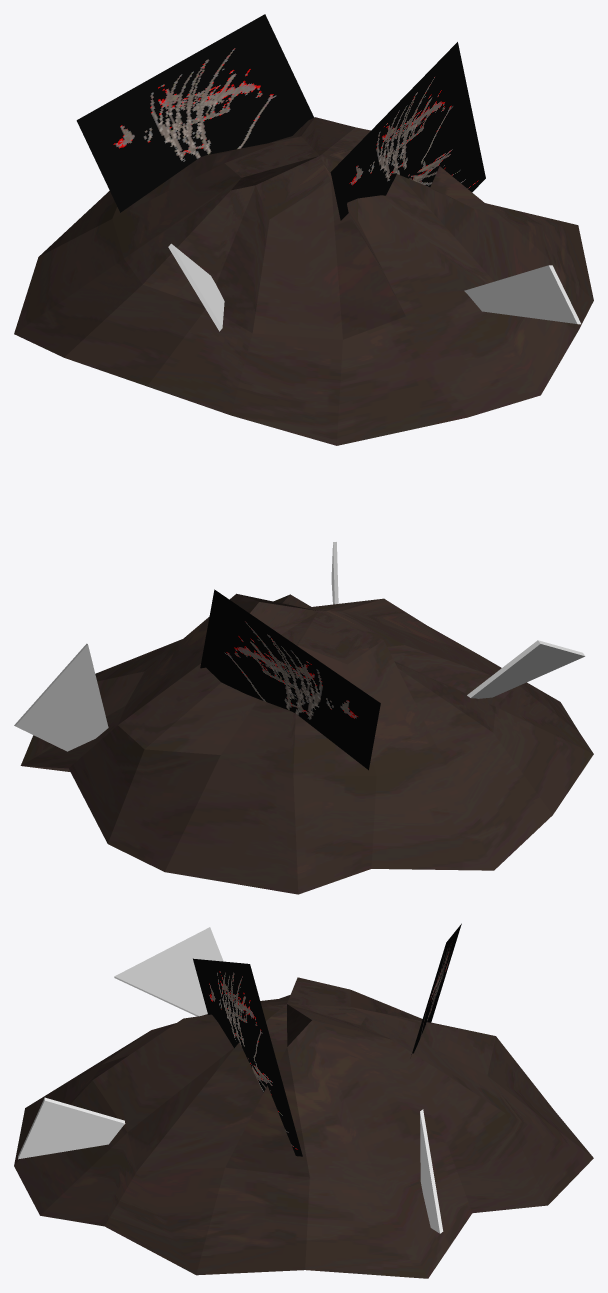
Rendered from pileofdirt.fbx.
The picture shows the model from 3 angles, top to bottom: view 1: azimuth 30°, elevation 25°; view 2: azimuth 150°, elevation 25°; view 3: azimuth 270°, elevation 25°; orthographic projection. The views are drawn at different scales.
Parts seen in each view (by area): view 1: Cone, Plane, Plane.001, Circle.002, Circle; view 2: Cone, Plane, Circle.001, Circle; view 3: Cone, Plane.001, Circle, Circle.002, Circle.001, Plane.
Boxes of the visible parts, bbox=[...] form: Cone: bbox=[14, 117, 593, 445]; Plane: bbox=[76, 14, 313, 212]; Plane.001: bbox=[330, 42, 485, 220]; Circle.002: bbox=[464, 265, 580, 324]; Circle: bbox=[168, 243, 224, 331]; Cone: bbox=[20, 593, 593, 894]; Plane: bbox=[200, 589, 380, 770]; Circle.001: bbox=[14, 643, 108, 751]; Circle: bbox=[467, 640, 585, 698]; Cone: bbox=[14, 977, 593, 1278]; Plane.001: bbox=[193, 958, 302, 1156]; Circle: bbox=[114, 927, 223, 1016]; Circle.002: bbox=[18, 1097, 125, 1159]; Circle.001: bbox=[420, 1109, 443, 1233]; Plane: bbox=[411, 923, 461, 1054].
Size of the model in its own units: 1.55 by 0.8219 by 1.54.
Materials: 3 (2 with a texture image).
